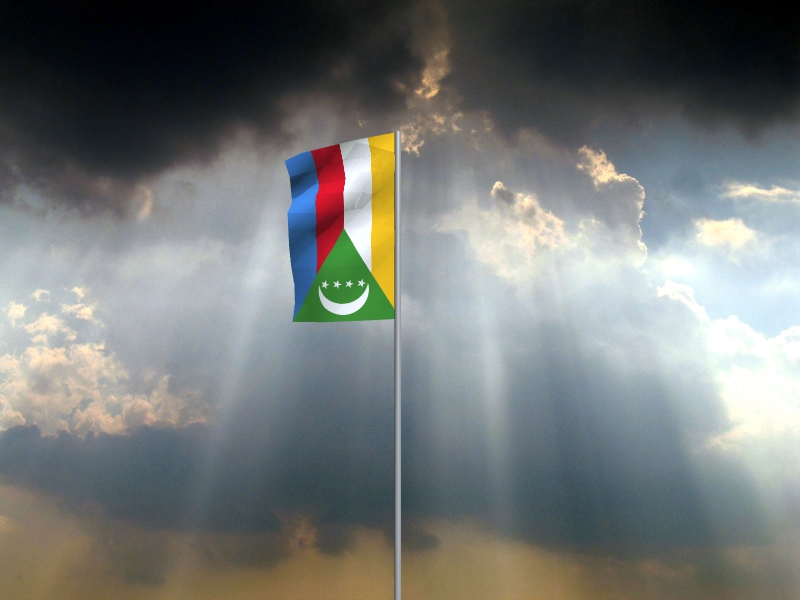km: (284, 133, 395, 324)
